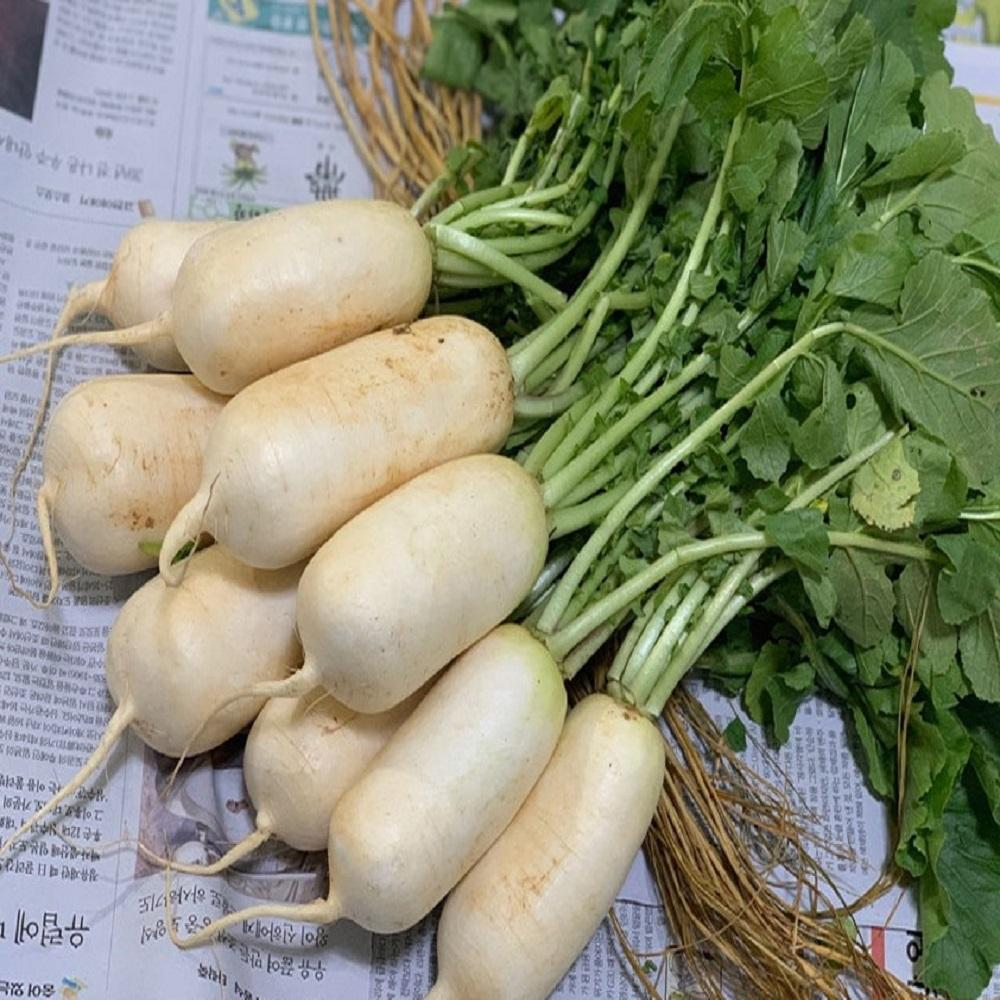radish: (325, 517, 756, 855), (533, 774, 878, 1000)
